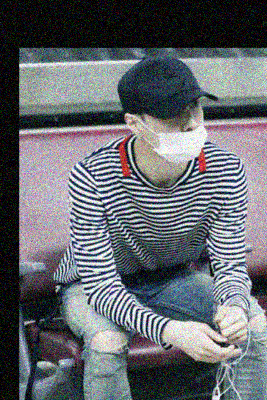mask_weared_incorrect: (145, 99, 204, 162)
